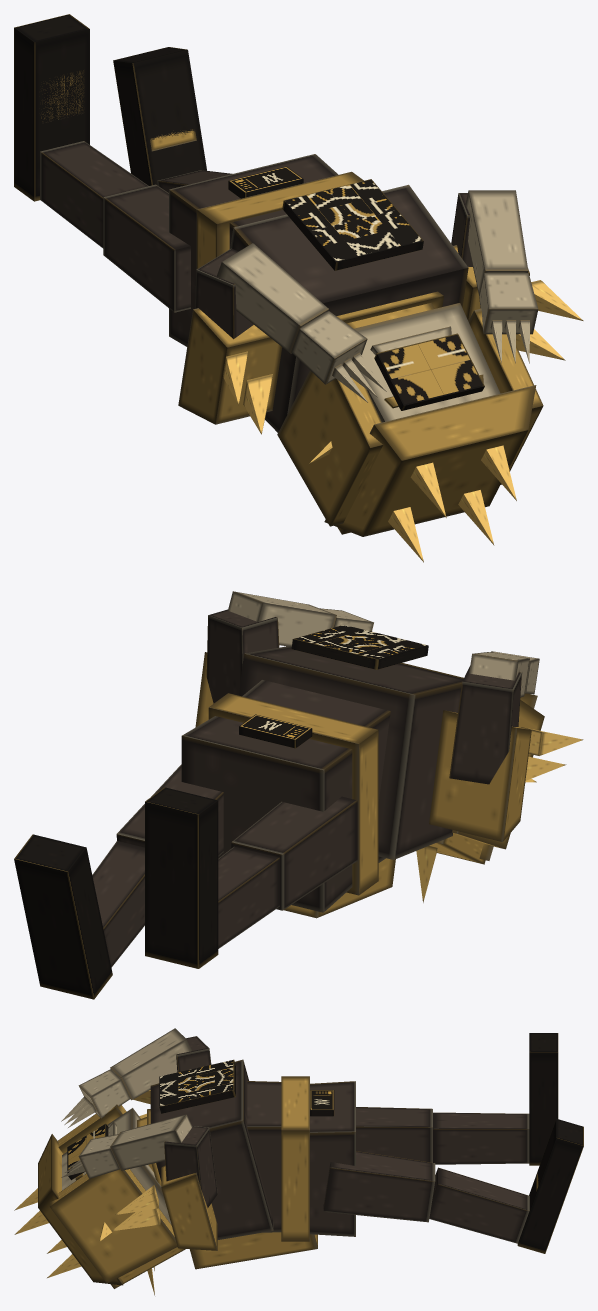
Rendered from choraz_hurt.obj.
3 views of the same model, one above another, from view 1: azimuth 30°, elevation 25°; view 2: azimuth 150°, elevation 25°; view 3: azimuth 270°, elevation 25° (orthographic). The views are drawn at different scales.
Visible parts, largest first — view 1: choraz_hurt; view 2: choraz_hurt; view 3: choraz_hurt.
Boxes of the visible parts, box(x1,y1,x2,y2) form: choraz_hurt: box(14, 14, 583, 562); choraz_hurt: box(14, 591, 583, 999); choraz_hurt: box(14, 1028, 583, 1295).
Size of the model in its own units: 0.5104 by 0.439 by 1.02.
1 material, 1 textured.
